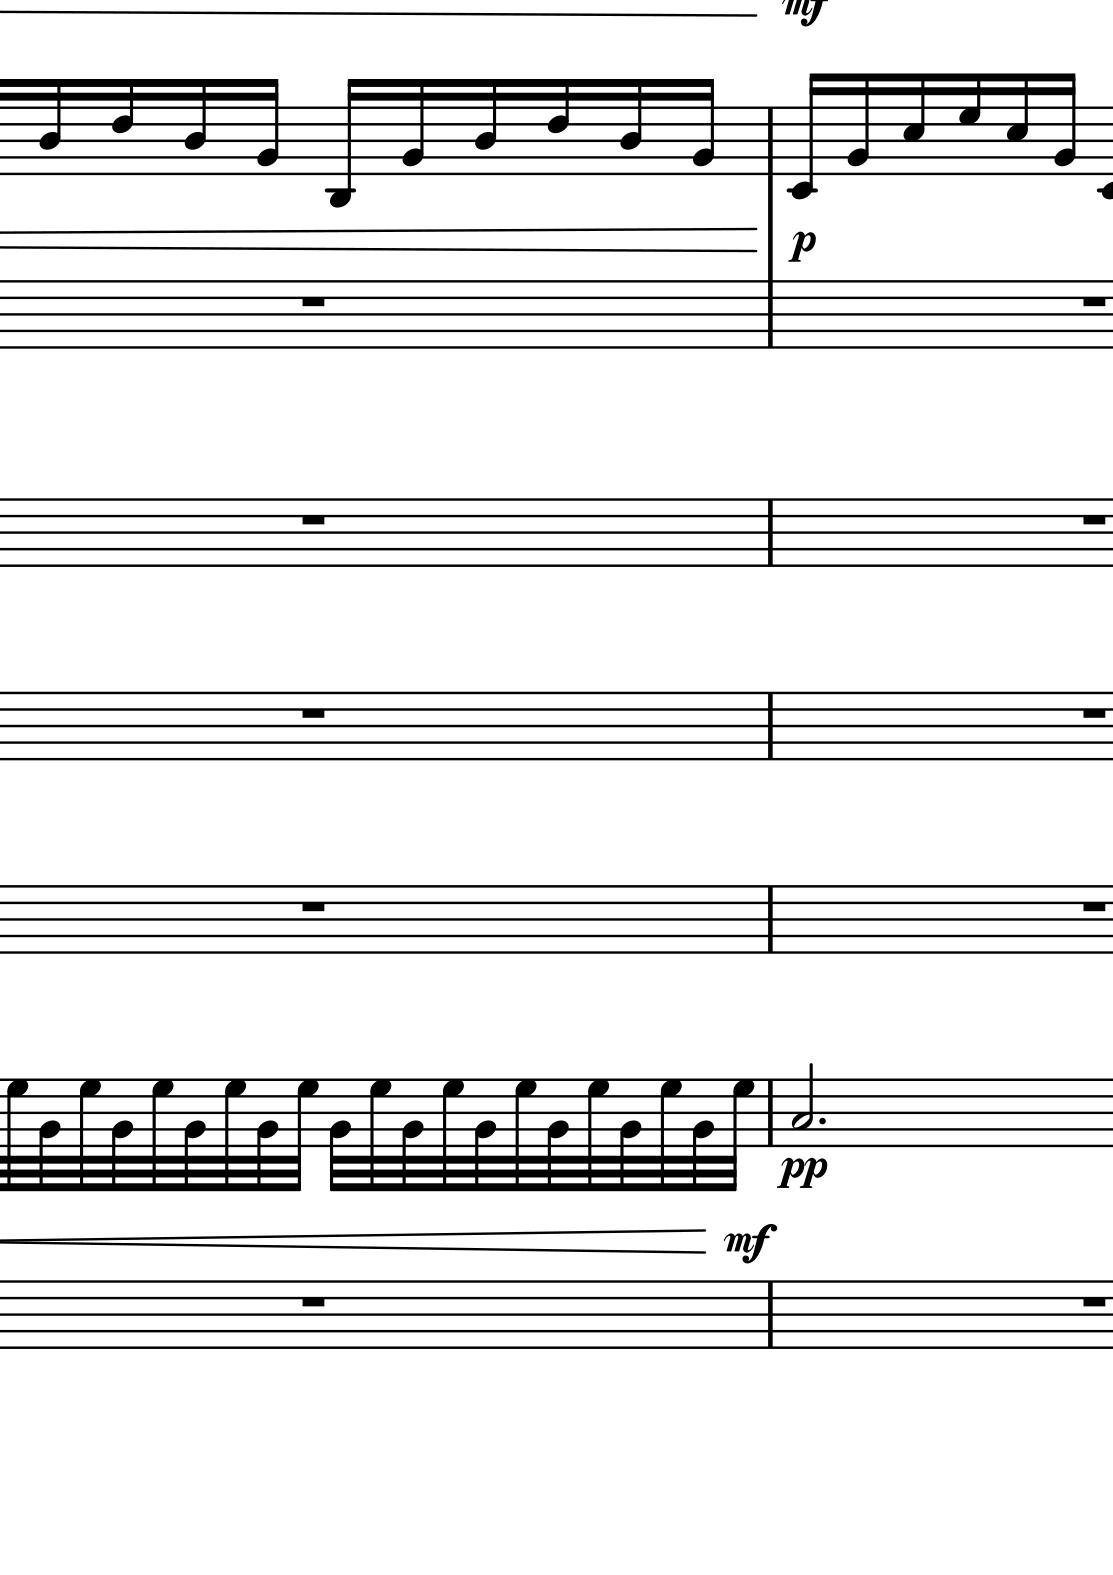16_-2: (787, 69, 824, 201)
16_-3: (326, 75, 366, 211)
16_2: (254, 76, 283, 177), (691, 76, 718, 177), (400, 76, 426, 176), (847, 71, 872, 175), (1055, 71, 1077, 178)
16_4: (179, 77, 210, 177), (617, 77, 647, 176), (36, 75, 64, 177), (473, 76, 499, 177)
16_5: (1005, 71, 1032, 177), (902, 71, 927, 177)
16_6: (108, 76, 137, 176), (547, 77, 575, 176)
16_7: (959, 72, 982, 178)
2_3: (793, 1060, 818, 1148)
32_2: (326, 1076, 355, 1194), (471, 1075, 499, 1194), (400, 1074, 426, 1196), (546, 1076, 572, 1196), (255, 1078, 282, 1192), (619, 1076, 644, 1194), (108, 1076, 134, 1193), (691, 1074, 715, 1194), (37, 1074, 61, 1192), (182, 1076, 206, 1194)
32_7: (723, 1076, 759, 1196), (290, 1075, 324, 1193), (75, 1076, 104, 1192), (222, 1076, 249, 1194), (585, 1076, 613, 1193), (658, 1076, 685, 1193), (367, 1076, 394, 1192), (149, 1075, 175, 1194), (514, 1075, 540, 1194), (441, 1075, 466, 1193), (5, 1076, 29, 1193)
Crescendo_hairpin: (1, 1226, 708, 1257)
Rests1: (296, 507, 337, 530), (1076, 893, 1111, 918), (1076, 700, 1111, 722), (1076, 506, 1108, 530), (294, 703, 330, 721), (298, 897, 330, 916), (300, 1291, 329, 1312), (1076, 1291, 1108, 1310), (1080, 289, 1108, 311), (300, 290, 328, 311)
Single_barline: (756, 282, 787, 346), (755, 694, 784, 760), (756, 499, 783, 566), (756, 886, 783, 952), (760, 106, 782, 175), (762, 1078, 782, 1148)
dot: (758, 1282, 778, 1347), (815, 1110, 829, 1131), (814, 1115, 828, 1127)
mf: (724, 1221, 776, 1262)
p: (788, 229, 819, 264)
pp: (778, 1158, 828, 1191)
